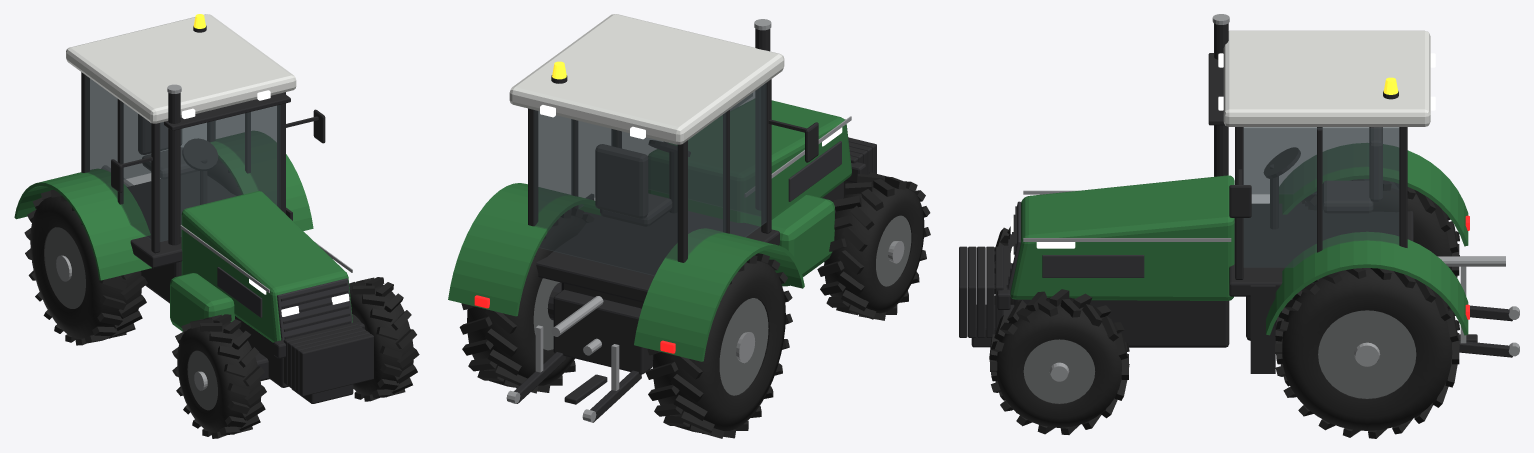
The model's file is tractor_fendt_516.glb.
3 renders of one model, left to right at view 1: azimuth 30°, elevation 25°; view 2: azimuth 150°, elevation 25°; view 3: azimuth 270°, elevation 25°, orthographic. The views are drawn at different scales.
Parts seen in each view (by area): view 1: carroceria, vidrios, rueda_td, rueda_dd, rueda_di, rueda_ti; view 2: carroceria, vidrios, rueda_td, rueda_dd, rueda_ti, tripuntal, brazos_tripuntal; view 3: carroceria, rueda_ti, vidrios, rueda_di, rueda_td, brazos_tripuntal.
Boxes of the visible parts, box(x1,y1,x2,y2) form: carroceria: box(14, 14, 373, 403); vidrios: box(85, 75, 280, 241); rueda_td: box(24, 189, 147, 345); rueda_dd: box(172, 314, 266, 438); rueda_di: box(349, 277, 419, 401); rueda_ti: box(207, 158, 241, 195); carroceria: box(448, 14, 876, 361); vidrios: box(534, 83, 766, 275); rueda_td: box(645, 253, 792, 438); rueda_dd: box(817, 172, 930, 320); rueda_ti: box(459, 208, 594, 393); tripuntal: box(553, 289, 652, 404); brazos_tripuntal: box(506, 296, 641, 422); carroceria: box(959, 14, 1468, 373); rueda_ti: box(1275, 268, 1459, 438); vidrios: box(1243, 127, 1399, 267); rueda_di: box(989, 289, 1129, 434); rueda_td: box(1299, 179, 1459, 277); brazos_tripuntal: box(1437, 256, 1519, 357).
Size of the model in its own units: 2.54 by 3.27 by 4.96.
